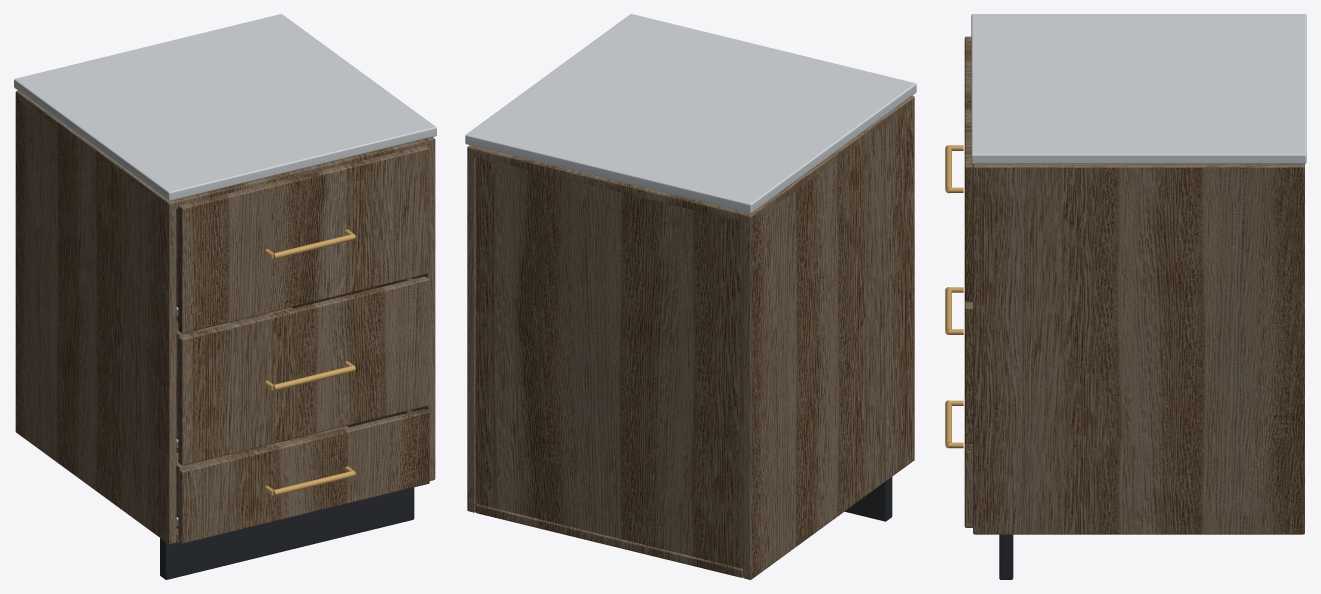
Rendered from detail-kitchen-base.glb.
The picture shows the model from 3 angles, left to right: view 1: azimuth 30°, elevation 25°; view 2: azimuth 150°, elevation 25°; view 3: azimuth 270°, elevation 25°; orthographic projection. The views are drawn at different scales.
Parts seen in each view (by area): view 1: 左侧板, 拉丝钢工作台, 抽屉独立面板.001, 抽屉独立面板, 抽屉独立面板.002, 踢脚空间背衬, 顶板, 右侧板, 圆角金属拉手.001, 圆角金属拉手.002, 圆角金属拉手; view 2: 嵌入式背板, 左侧板, 拉丝钢工作台, 顶板, 右侧板, 底板, 踢脚空间背衬; view 3: 右侧板, 拉丝钢工作台, 抽屉独立面板, 抽屉独立面板.001, 抽屉独立面板.002, 顶板, 踢脚空间背衬.
Boxes of the visible parts, box(x1,y1,x2,y2) form: 左侧板: box(15, 90, 176, 544); 拉丝钢工作台: box(14, 14, 436, 200); 抽屉独立面板.001: box(178, 276, 429, 465); 抽屉独立面板: box(178, 145, 429, 333); 抽屉独立面板.002: box(178, 409, 429, 543); 踢脚空间背衬: box(160, 487, 414, 579); 顶板: box(15, 92, 435, 209); 右侧板: box(411, 137, 435, 480); 圆角金属拉手.001: box(273, 365, 355, 390); 圆角金属拉手.002: box(273, 470, 355, 495); 圆角金属拉手: box(273, 234, 355, 259); 嵌入式背板: box(476, 157, 743, 569); 左侧板: box(743, 95, 914, 579); 拉丝钢工作台: box(465, 14, 916, 213); 顶板: box(467, 97, 914, 222); 右侧板: box(467, 145, 476, 512); 底板: box(475, 504, 743, 577); 踢脚空间背衬: box(845, 477, 892, 521); 右侧板: box(973, 164, 1304, 534); 拉丝钢工作台: box(971, 14, 1306, 163); 抽屉独立面板: box(964, 36, 972, 301); 抽屉独立面板.001: box(964, 300, 972, 444); 抽屉独立面板.002: box(964, 443, 972, 527); 顶板: box(973, 166, 1304, 174); 踢脚空间背衬: box(999, 534, 1013, 579).
Size of the model in its own units: 0.604 by 0.86 by 0.653.
Materials: 4 (1 with a texture image).
